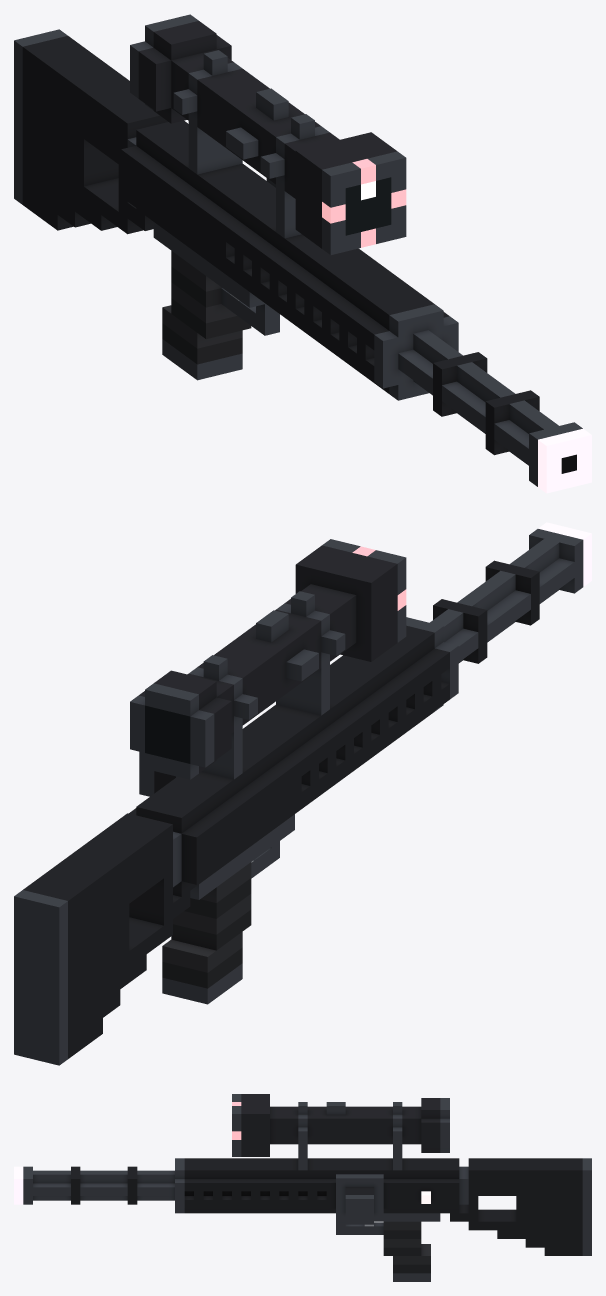
File: imp_sniper.glb
3 renders of one model, top to bottom at view 1: azimuth 30°, elevation 25°; view 2: azimuth 150°, elevation 25°; view 3: azimuth 270°, elevation 25°, orthographic. The views are drawn at different scales.
Parts seen in each view (by area): view 1: imp_sniper_body; view 2: imp_sniper_body; view 3: imp_sniper_body.
Boxes of the visible parts, box(x1,y1,x2,y2) form: imp_sniper_body: box(14, 14, 591, 493); imp_sniper_body: box(14, 522, 591, 1065); imp_sniper_body: box(14, 1094, 591, 1281).
Bounding box in the file's own units: 0.3516 × 0.7812 × 2.38.
Materials: 1 (1 with a texture image).
